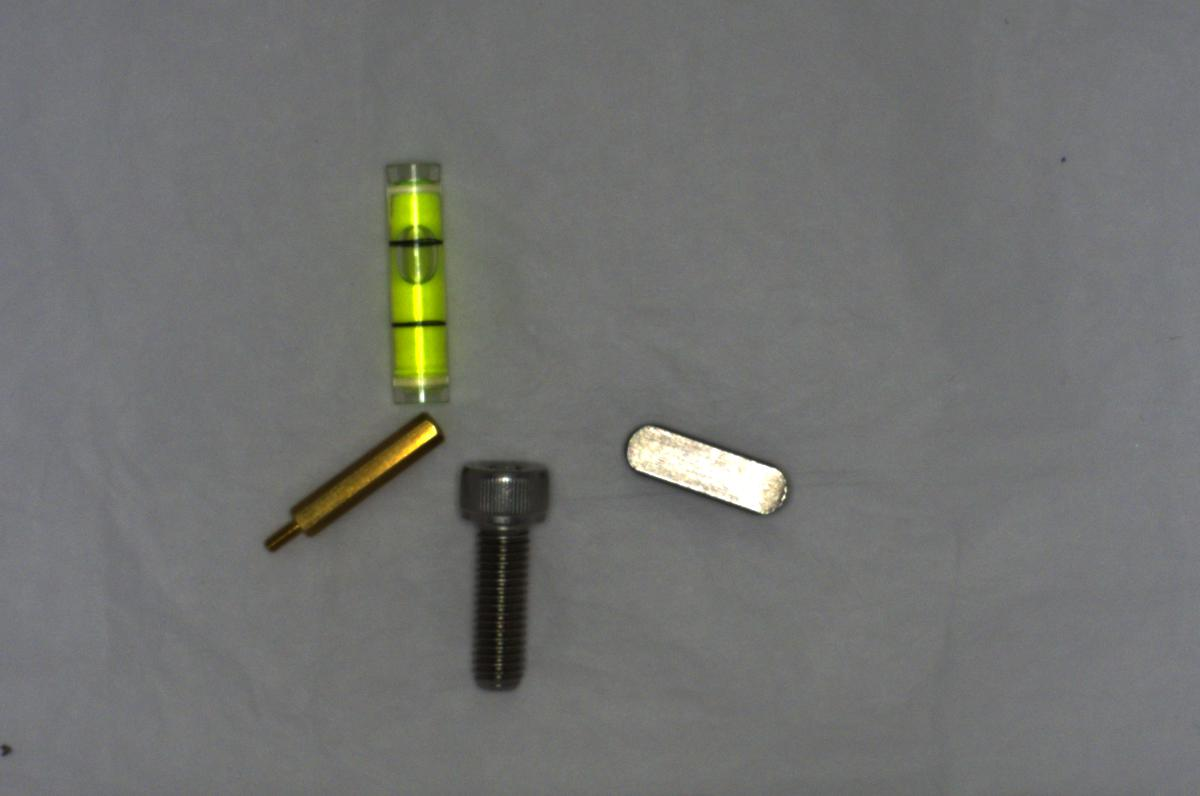Hexagon pillar: (264, 407, 442, 553)
Hexagon screw: (444, 452, 558, 696)
Horizontal bubble: (371, 152, 458, 406)
Keybar: (622, 419, 795, 526)
